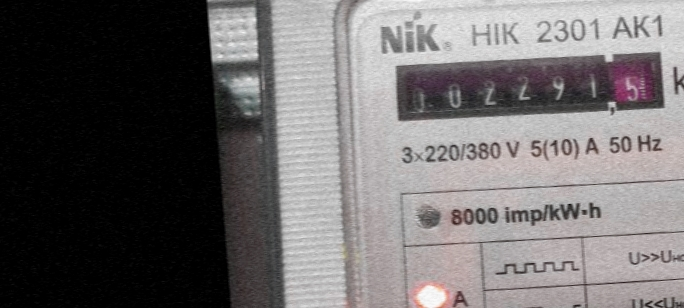0: (407, 82, 428, 112), (445, 79, 463, 109)
1: (584, 67, 600, 102)
2: (480, 76, 498, 107), (515, 72, 531, 102)
5: (622, 71, 640, 102)
9: (549, 71, 567, 102)
screen: (388, 38, 671, 136)
